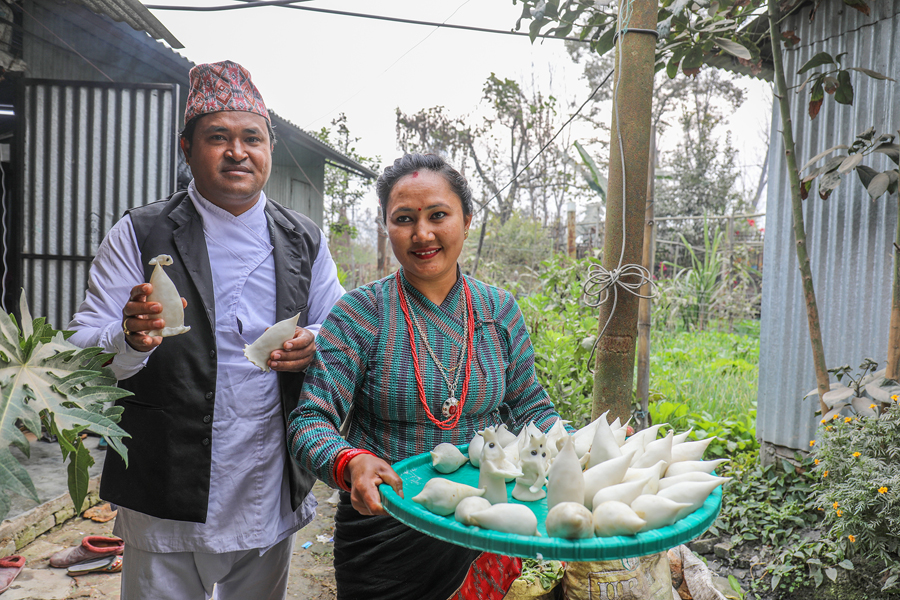yomari: (244, 310, 306, 367), (151, 260, 190, 340), (550, 438, 578, 506), (472, 506, 538, 533), (416, 481, 480, 507), (624, 413, 674, 441), (598, 448, 638, 481), (670, 431, 720, 456), (600, 478, 654, 500), (555, 506, 588, 538), (677, 455, 739, 472), (656, 496, 696, 522), (425, 441, 457, 469), (614, 509, 649, 534), (696, 473, 725, 494), (595, 415, 608, 449), (550, 412, 567, 434)
